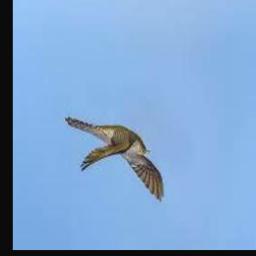Cuckoo: (64, 118, 163, 202)
